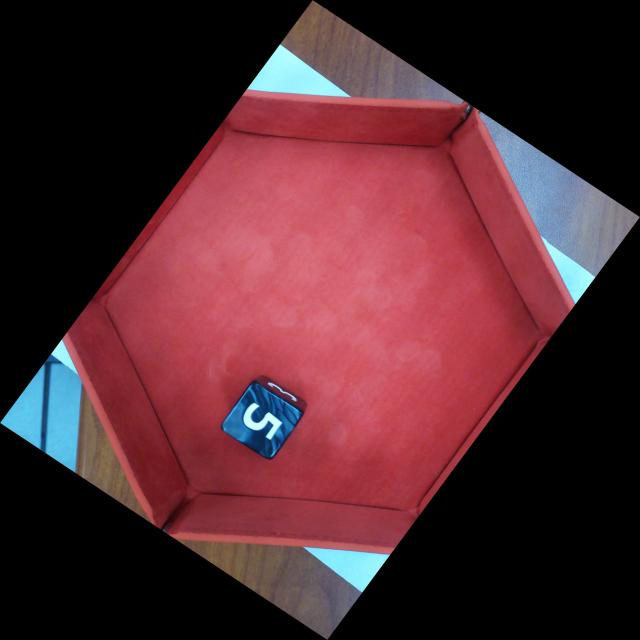dice: (222, 382, 304, 460)
